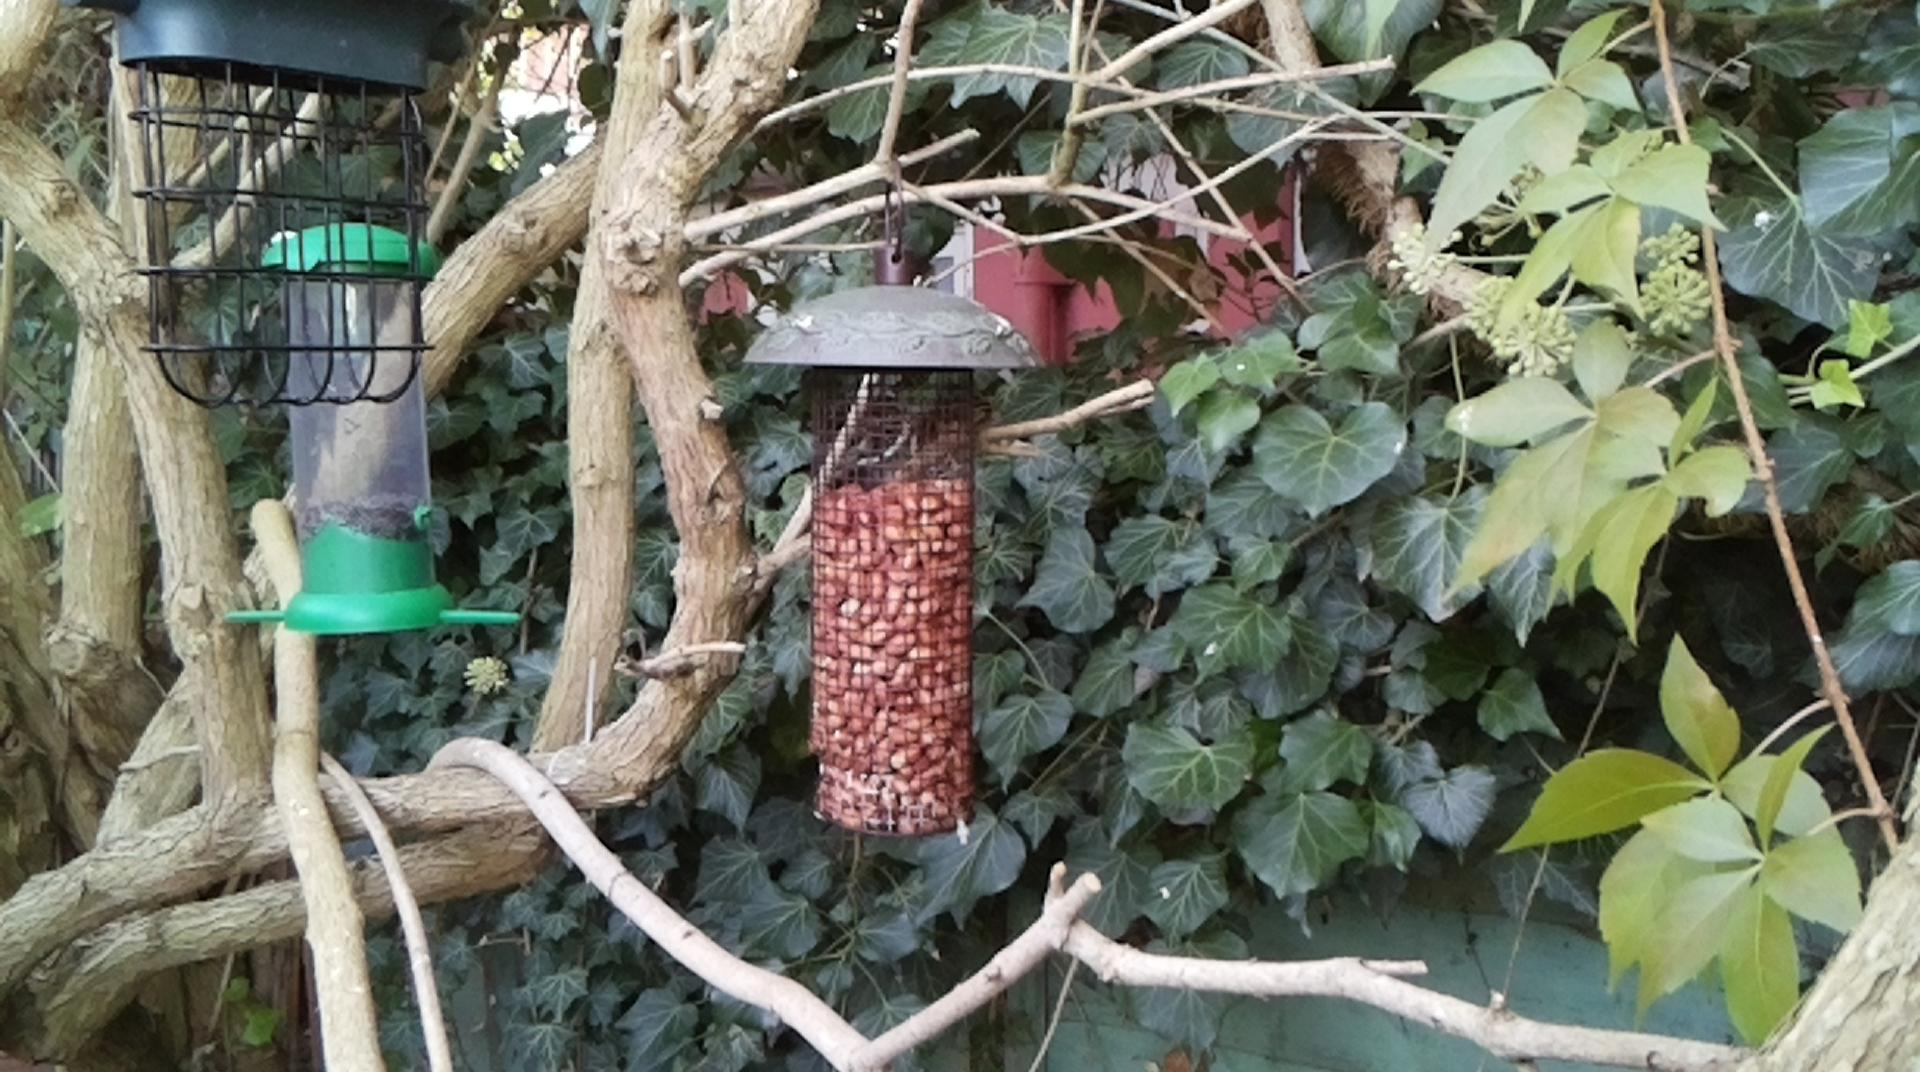unclassified: (1379, 385, 1605, 629)
